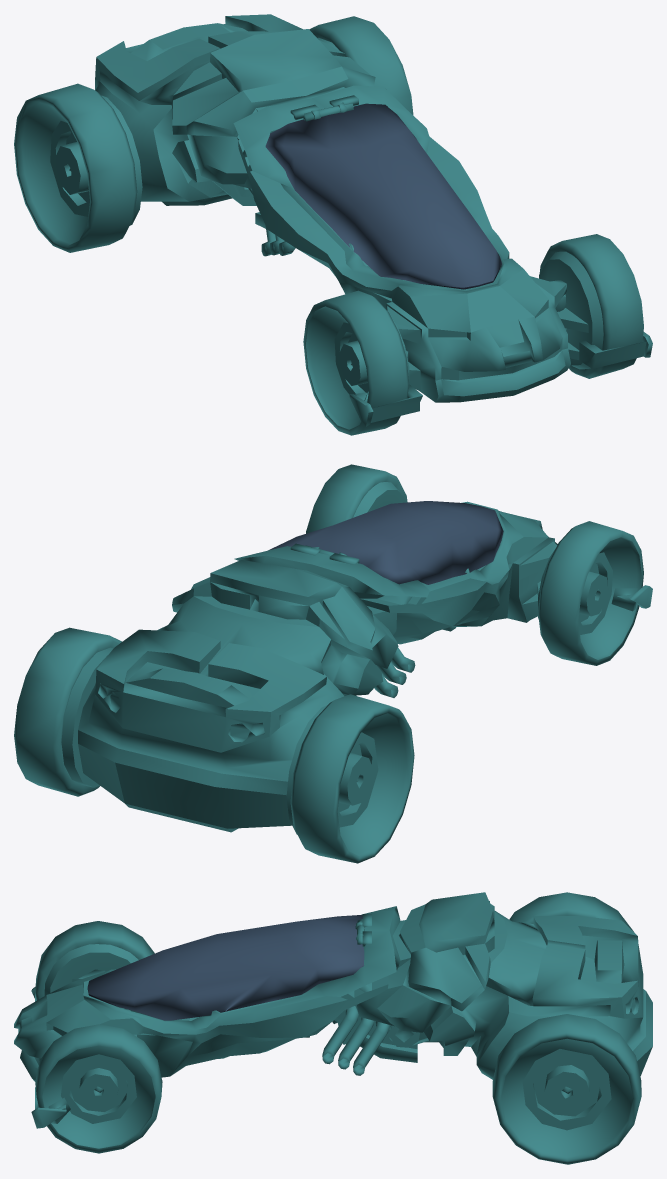
File: prototipo.glb
3 views of the same model, one above another, from view 1: azimuth 30°, elevation 25°; view 2: azimuth 150°, elevation 25°; view 3: azimuth 270°, elevation 25° (orthographic). The views are drawn at different scales.
Visible parts, largest first — view 1: prototipo; view 2: prototipo; view 3: prototipo.
Boxes of the visible parts, bbox=[...] form: prototipo: bbox=[14, 14, 652, 435]; prototipo: bbox=[14, 464, 652, 863]; prototipo: bbox=[14, 892, 652, 1164].
Size of the model in its own units: 1.18 by 0.7183 by 2.25.
